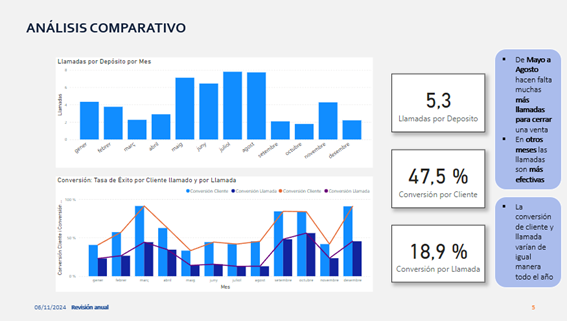

This screenshot's page, from the dashboard's own definition file:
{"tool":"powerbi","page":{"name":"ANÁLISIS 2","canvas":[1280,720],"ordinal":2},"visuals":[{"type":"card","fields":{"Values":["Bank_Marketing.Tasa_Exito_Llamada"]},"box":[971.2,526.2,270.2,166.6],"z":0},{"type":"card","fields":{"Values":["Bank_Marketing.Tasa_Exito_ClienteLlamado"]},"box":[971.2,308.8,270.2,168.6],"z":1000},{"type":"lineClusteredColumnComboChart","title":"Conversión: Tasa de Éxito por Cliente llamado y por Llamada","fields":{"Category":["Bank_Marketing.date.Variació.Jerarquia de dates.Mes"],"Y":["Bank_Marketing.Tasa_Exito_ClienteLlamado","Bank_Marketing.Tasa_Exito_Llamada"],"Y2":["Bank_Marketing.Tasa_Exito_ClienteLlamado","Bank_Marketing.Tasa_Exito_Llamada"]},"box":[0,386,918.3,333.2],"z":2000},{"type":"card","fields":{"Values":["Bank_Marketing.Media_LlamadasxDeposito"]},"box":[971.2,89.4,270.2,168.6],"z":3000},{"type":"clusteredColumnChart","title":"Llamadas por Depósito por Mes","fields":{"Category":["Bank_Marketing.date.Variació.Jerarquia de dates.Mes"],"Y":["Bank_Marketing.Media_LlamadasxDeposito"]},"box":[0,42.7,918.3,319],"z":4000}]}

Visuals, with their boxes in screenshot pixels (x1, y1, x2, y2), scaled from the page's 1280x720 canvas onto the 567x321 screenshot:
card - Bank_Marketing.Tasa_Exito_Llamada: (430, 235, 550, 309)
card - Bank_Marketing.Tasa_Exito_ClienteLlamado: (430, 138, 550, 213)
"Conversión: Tasa de Éxito por Cliente llamado y por Llamada" lineClusteredColumnComboChart: (0, 172, 407, 320)
card - Bank_Marketing.Media_LlamadasxDeposito: (430, 40, 550, 115)
"Llamadas por Depósito por Mes" clusteredColumnChart: (0, 19, 407, 161)
